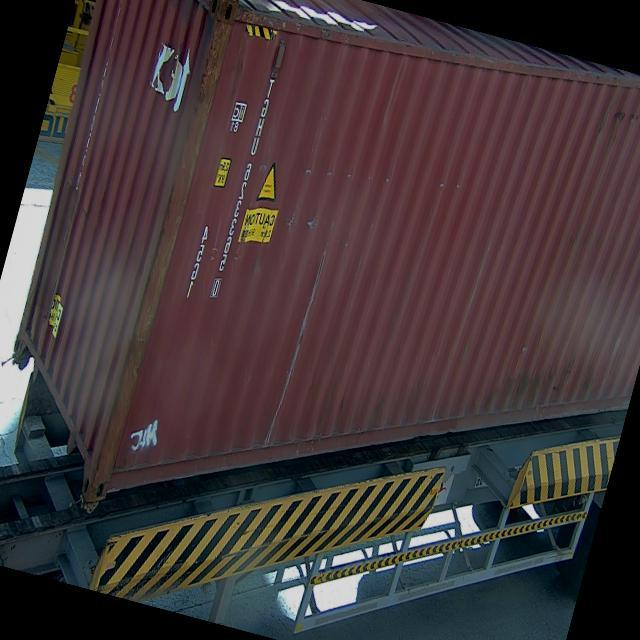rust: (61, 1, 255, 523)
